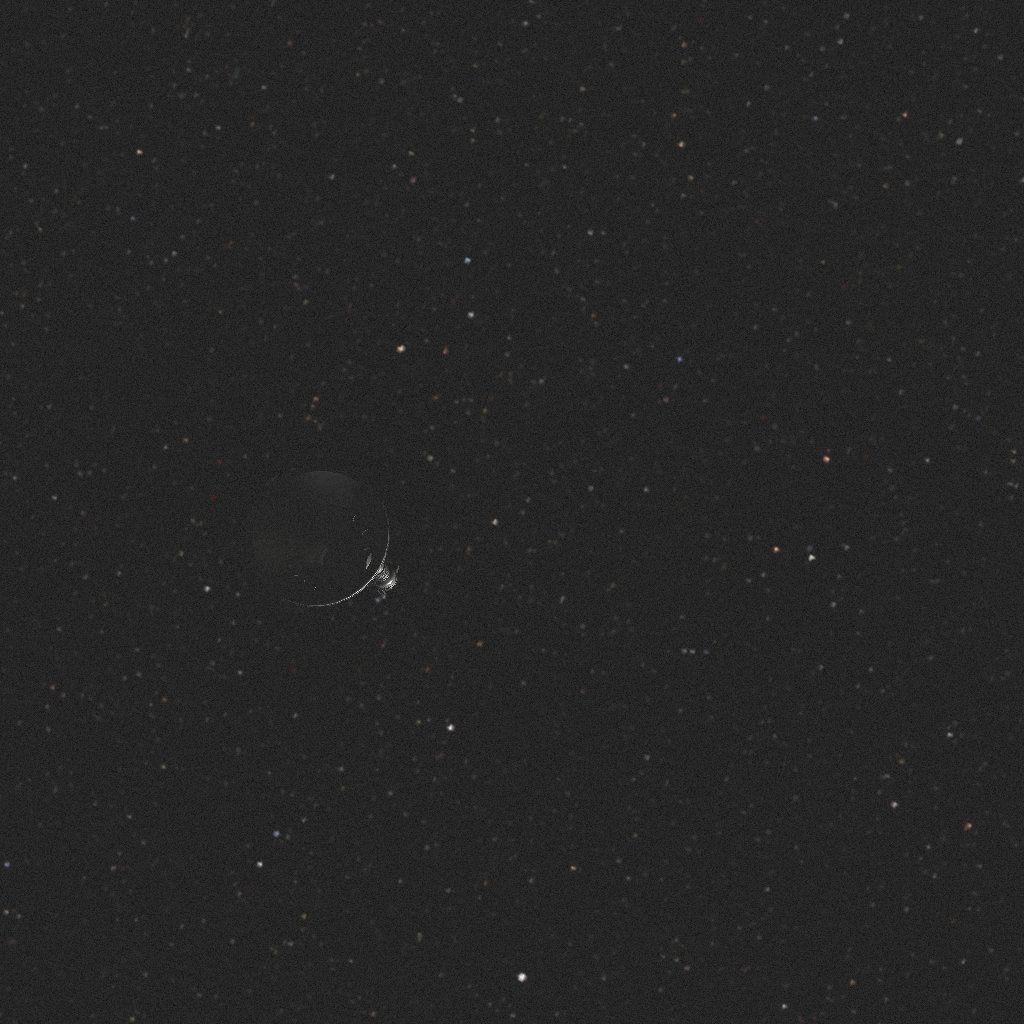debris: (226, 441, 406, 621)
